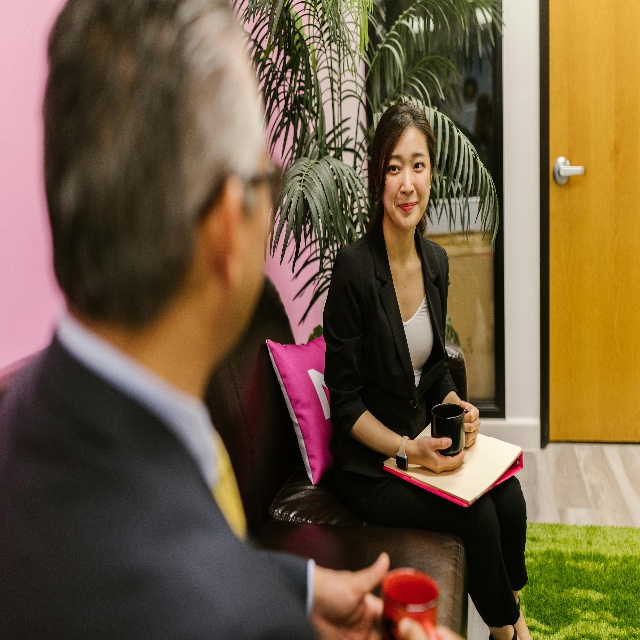Sin_guantes: (310, 554, 409, 640), (414, 435, 465, 474), (459, 401, 480, 449)
